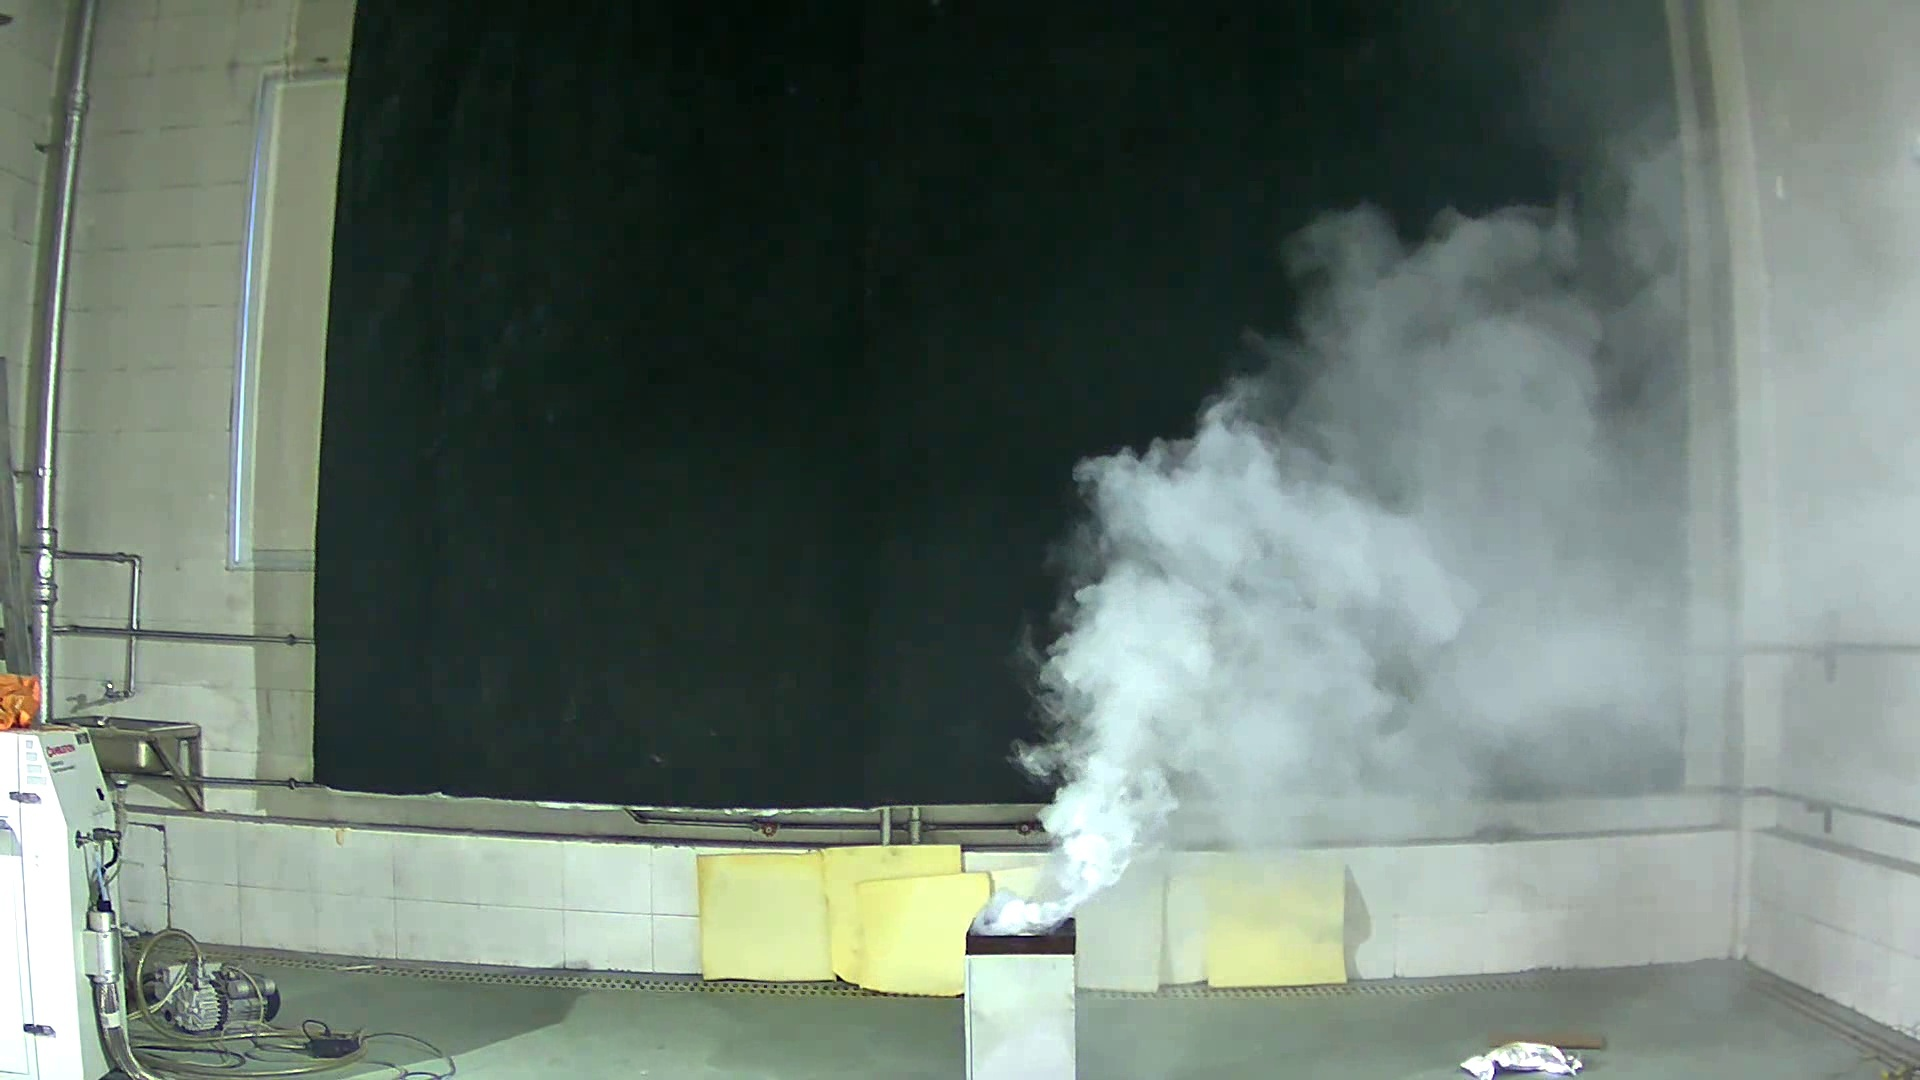smoke: (938, 135, 1727, 938)
